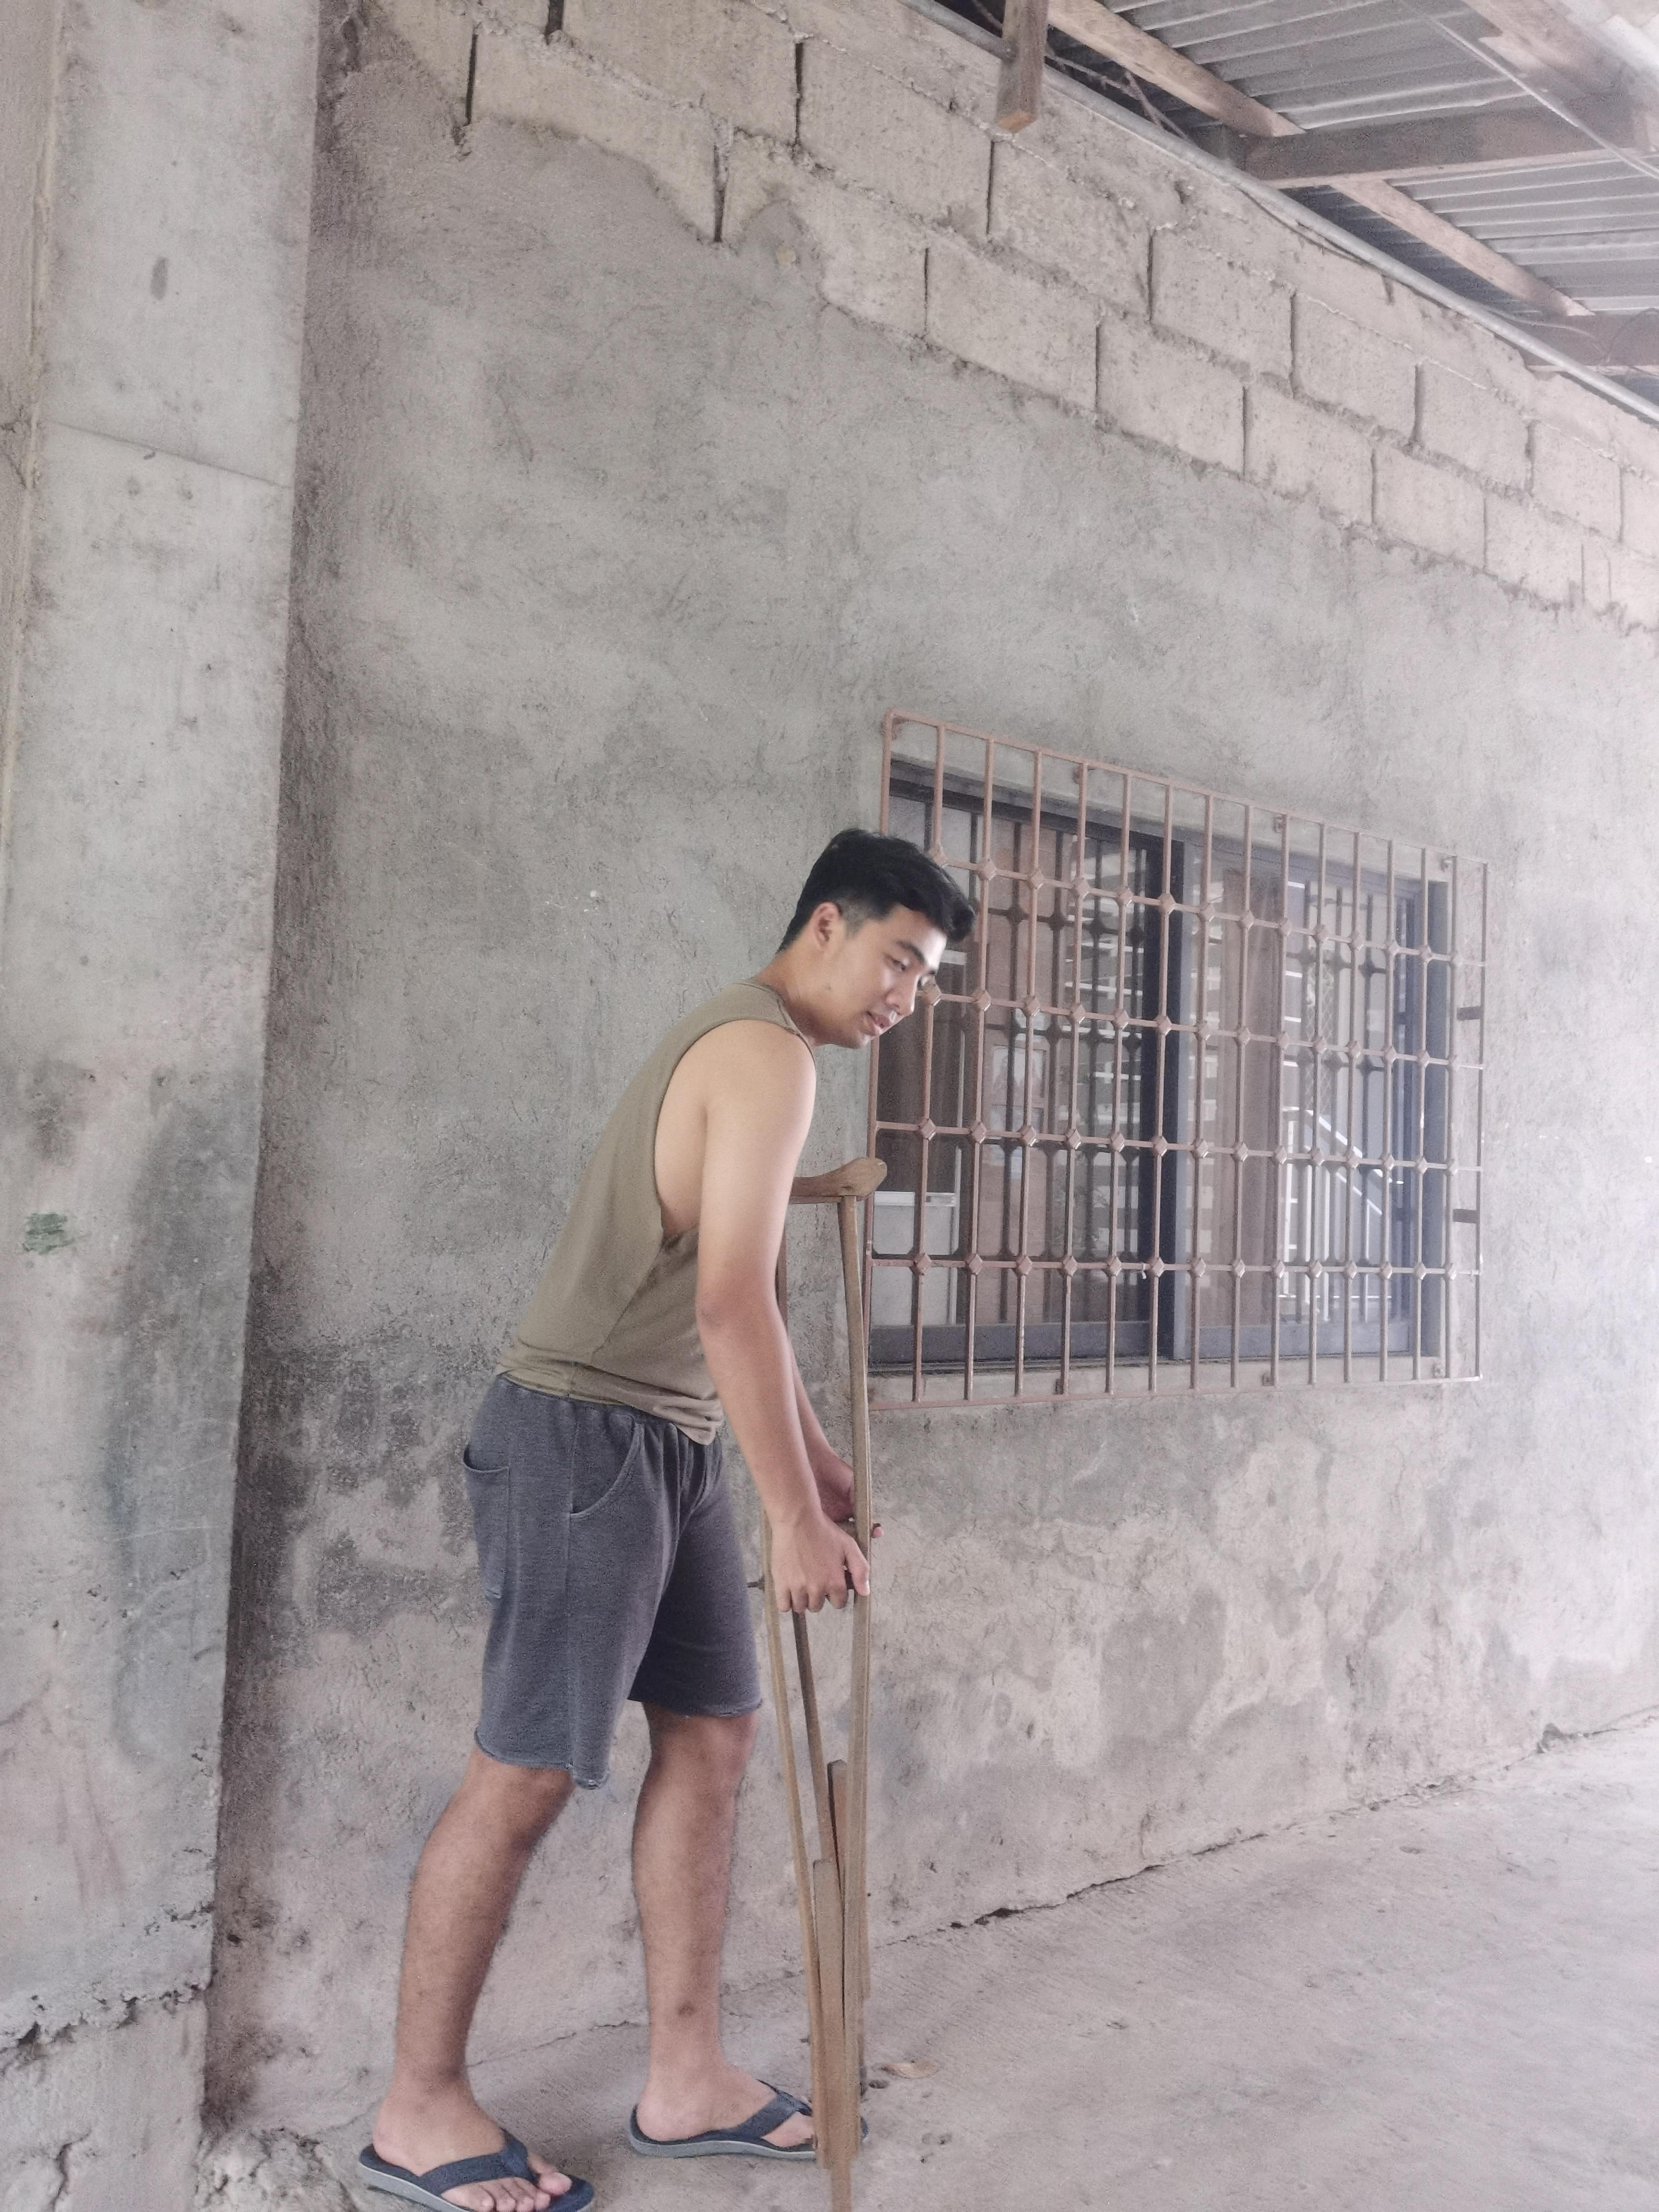crutches: (361, 831, 974, 2203)
